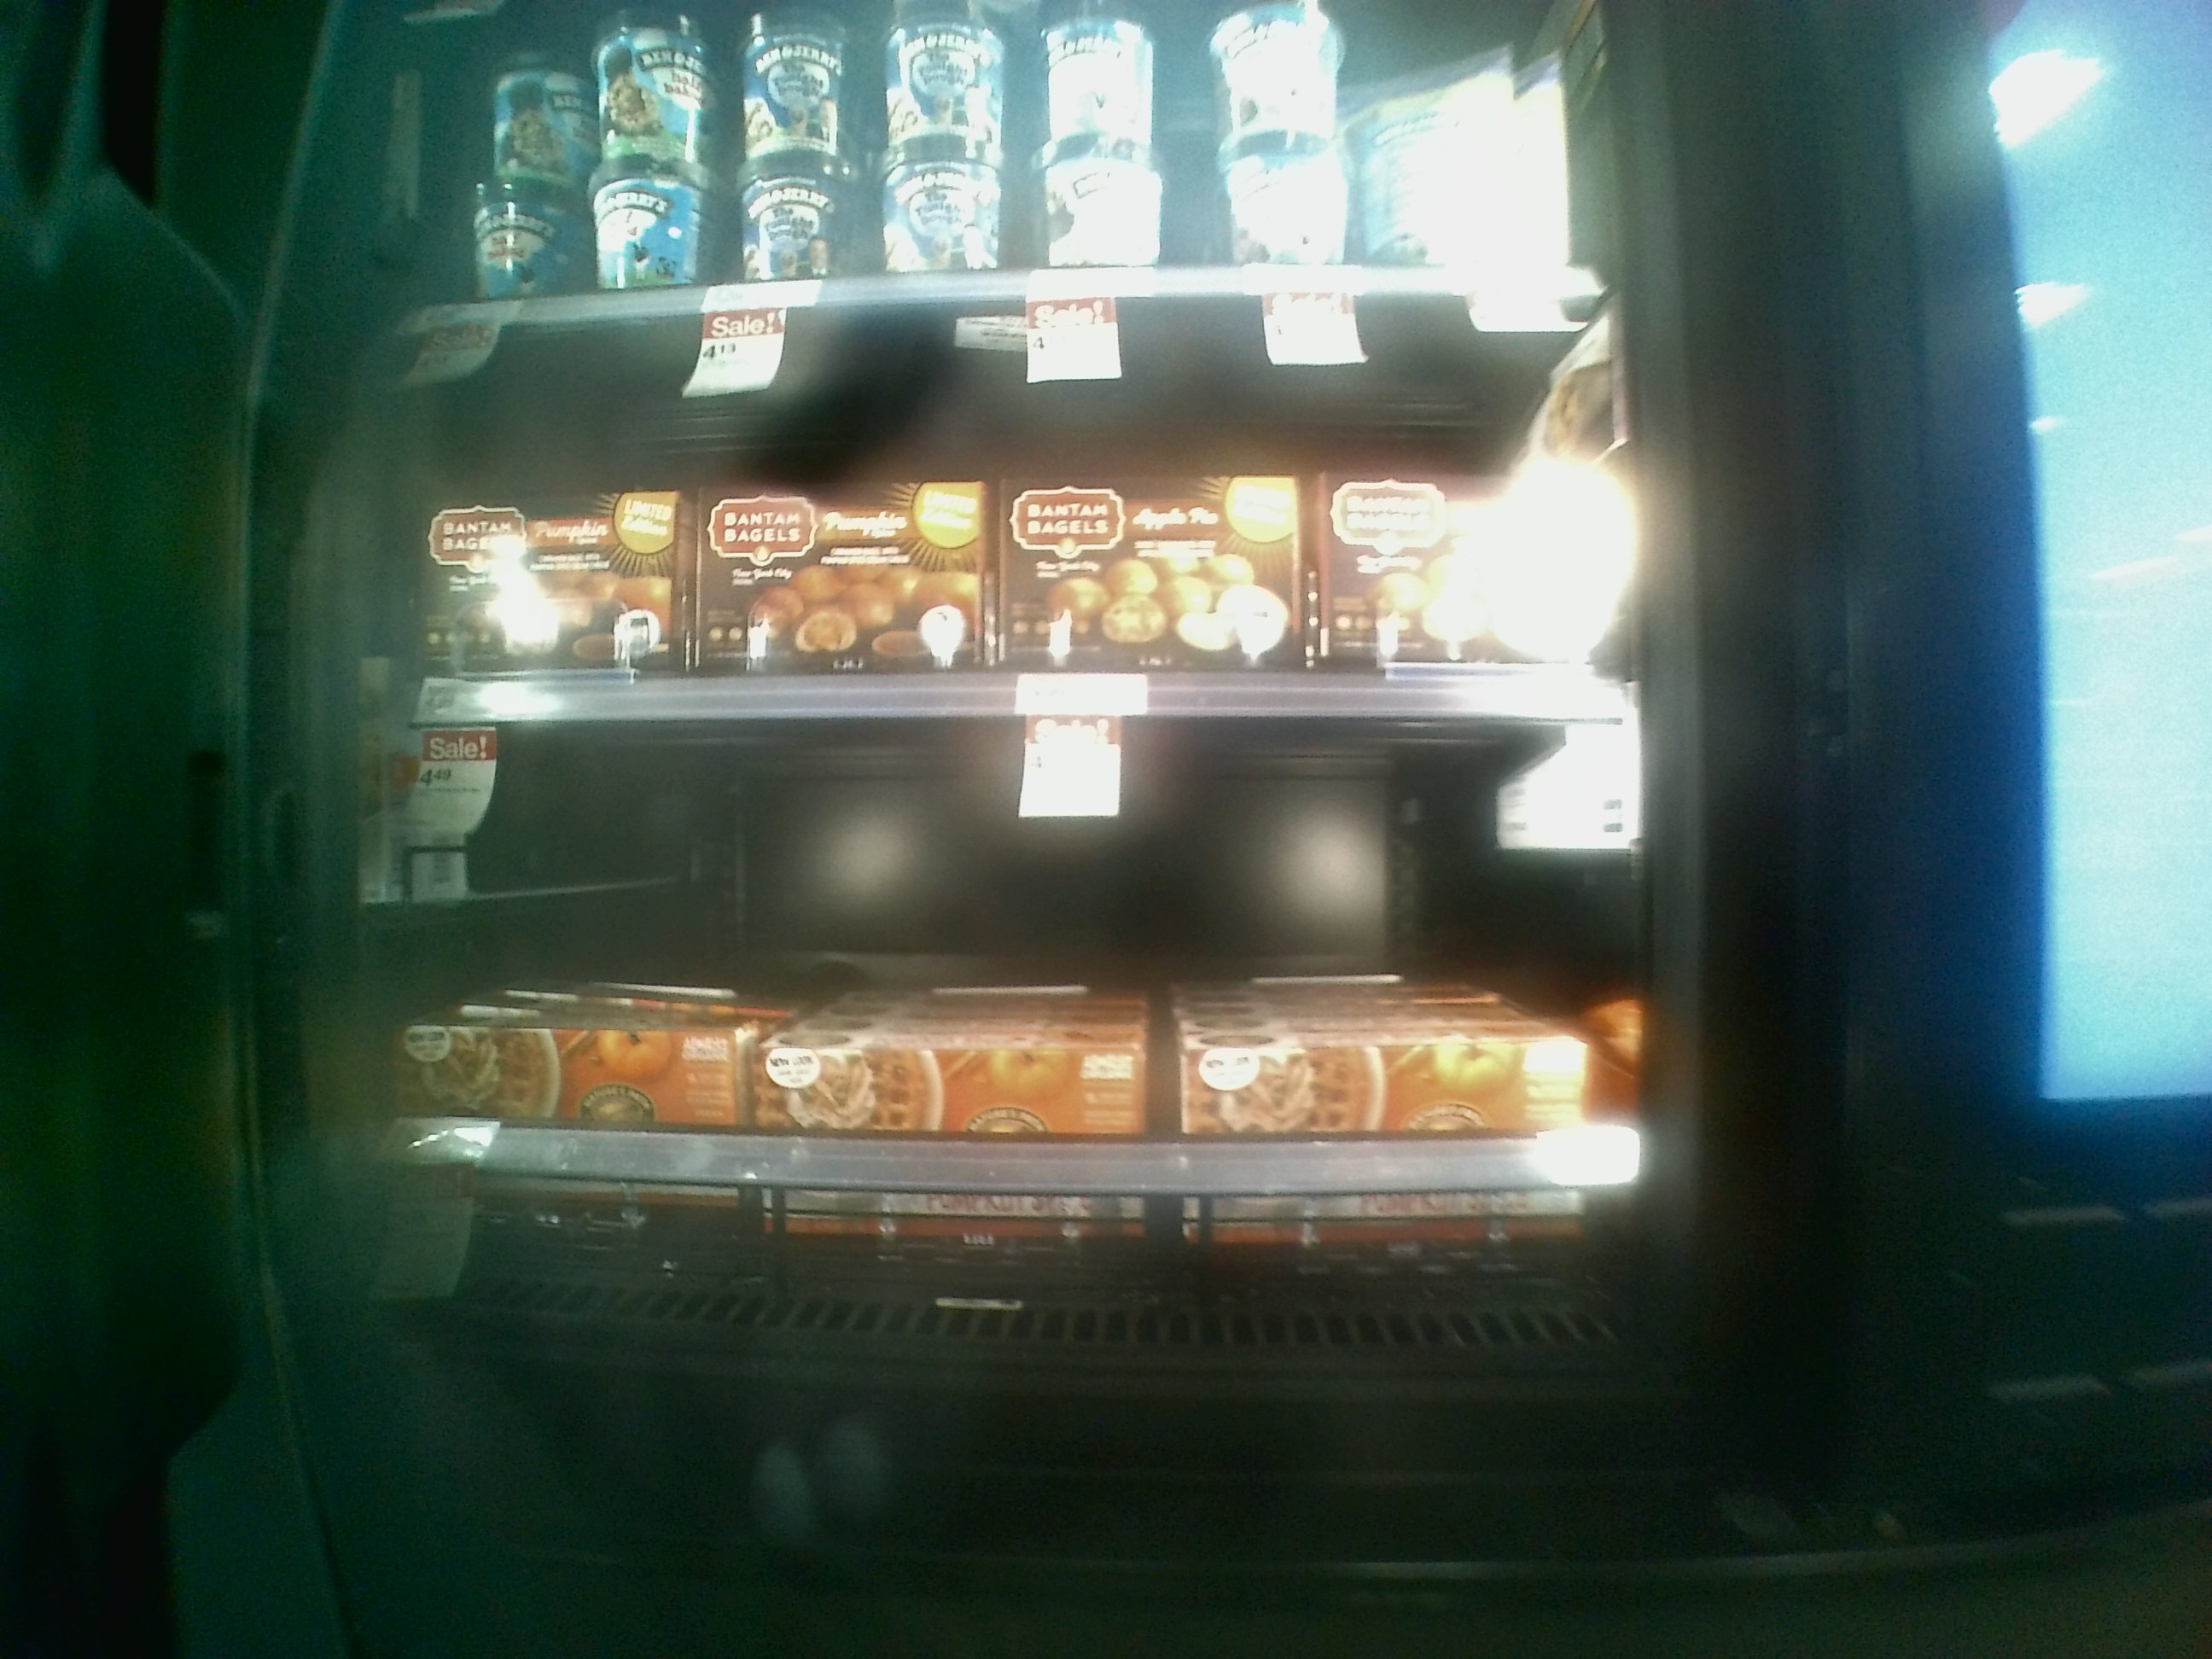shelf: (350, 695, 1695, 1384), (350, 305, 1644, 732)
